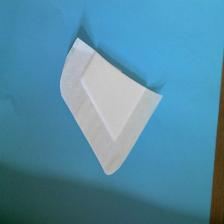Cut: (59, 26, 167, 179)
